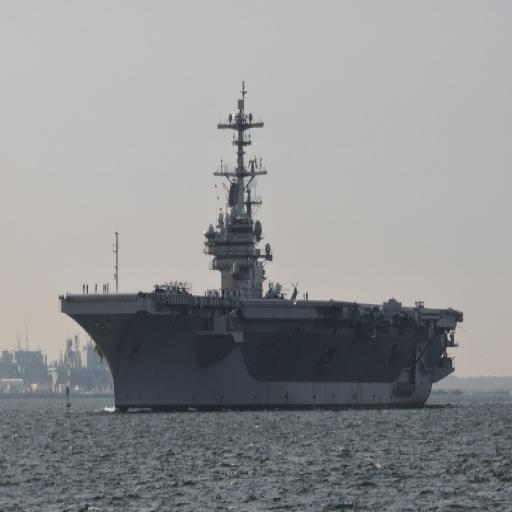Portanaves: (57, 76, 468, 418)
